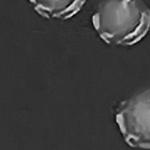colony: (108, 77, 150, 150), (90, 0, 150, 49), (26, 0, 91, 23)
